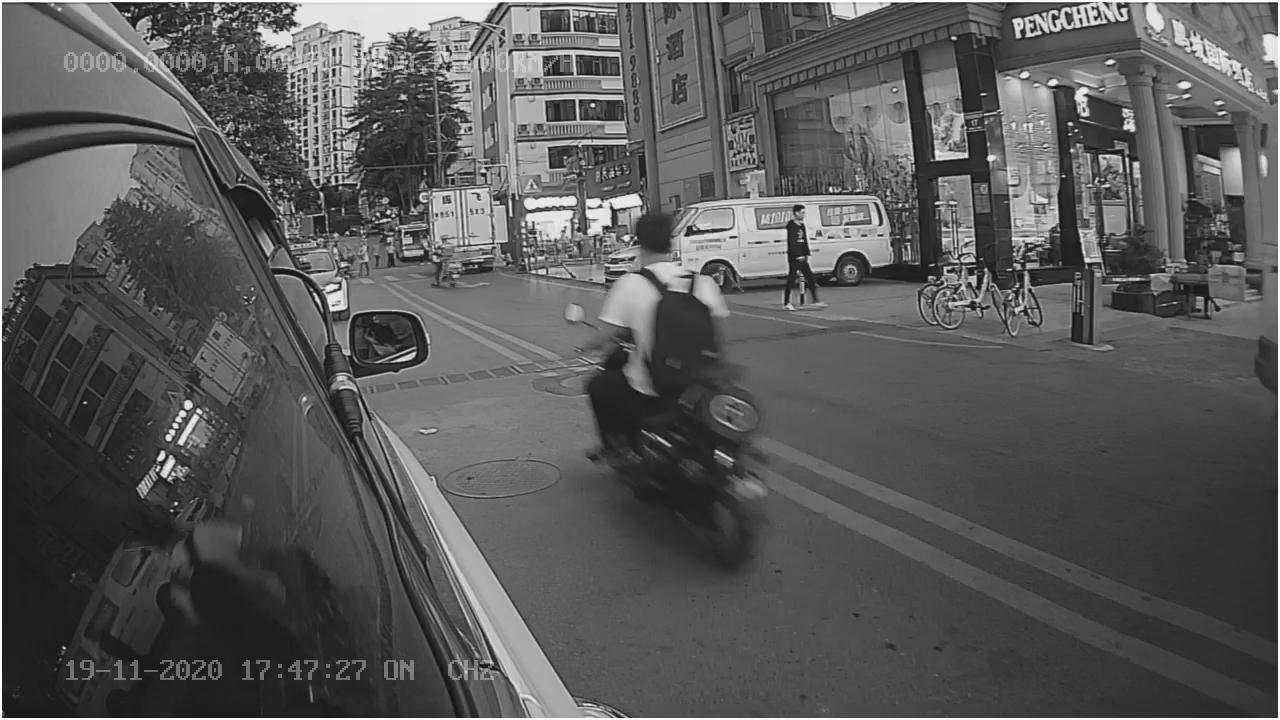person: (607, 219, 726, 383)
